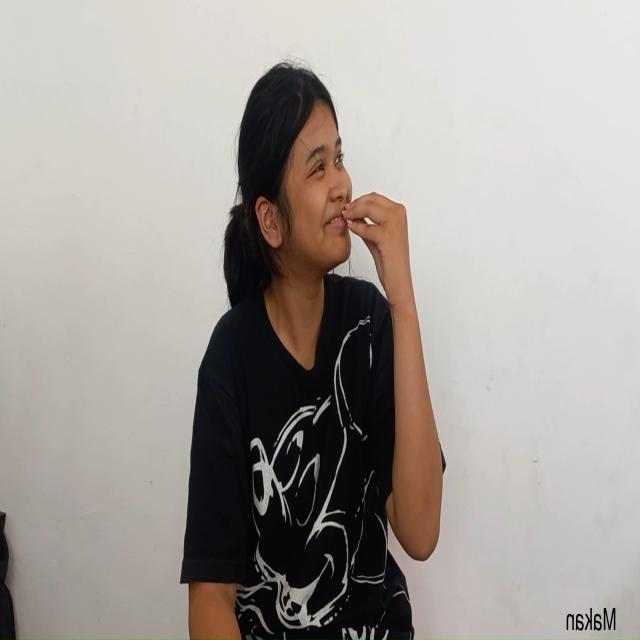Makan -BISINDO-: (254, 52, 437, 422)
